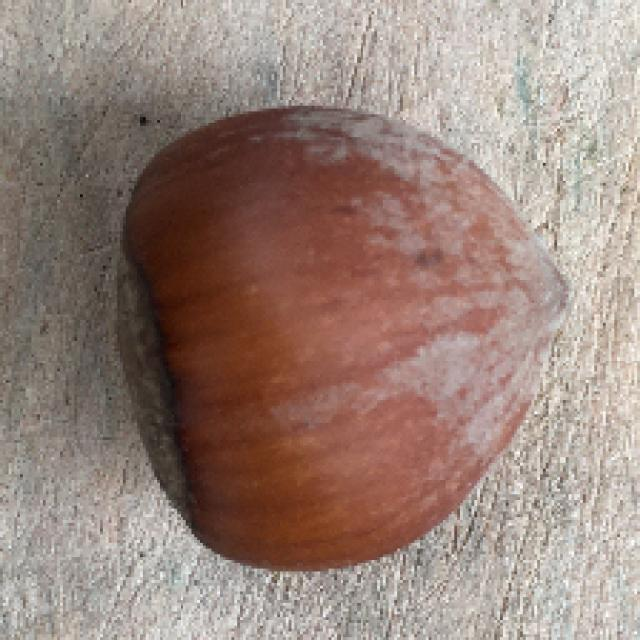QualityHazelnut: (112, 107, 577, 573)
